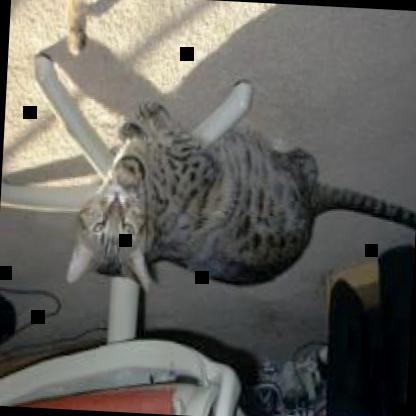cat: (64, 96, 415, 305)
